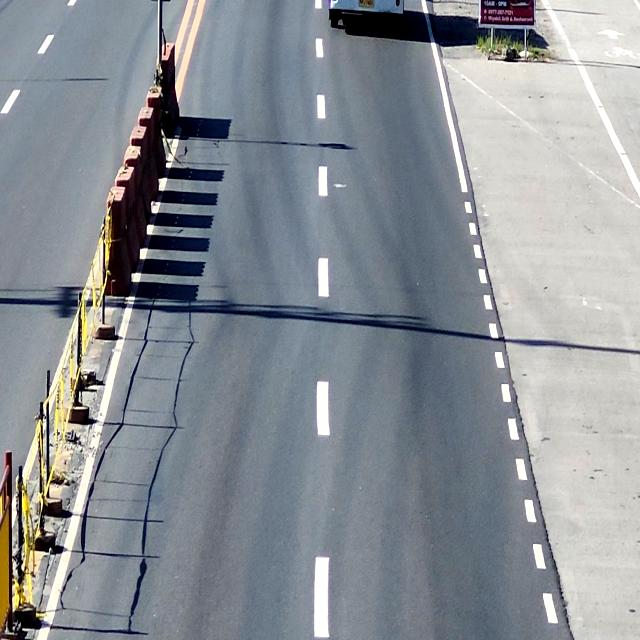License-Plate: (359, 0, 377, 8)
